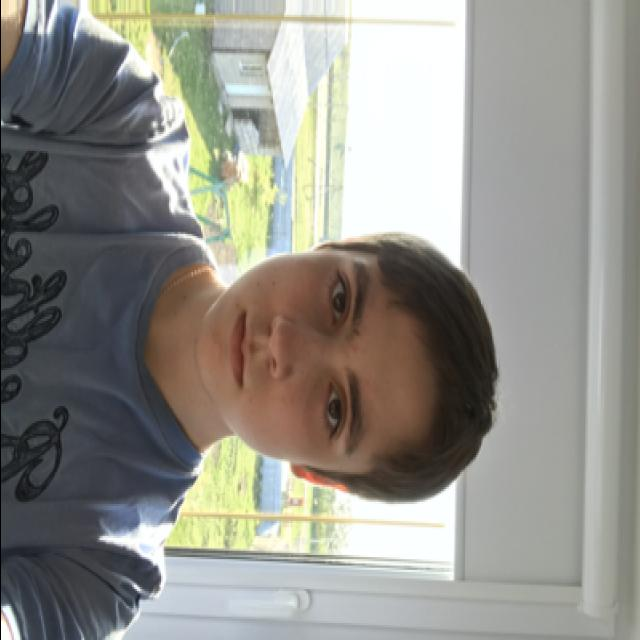without_mask: (195, 251, 381, 470)
